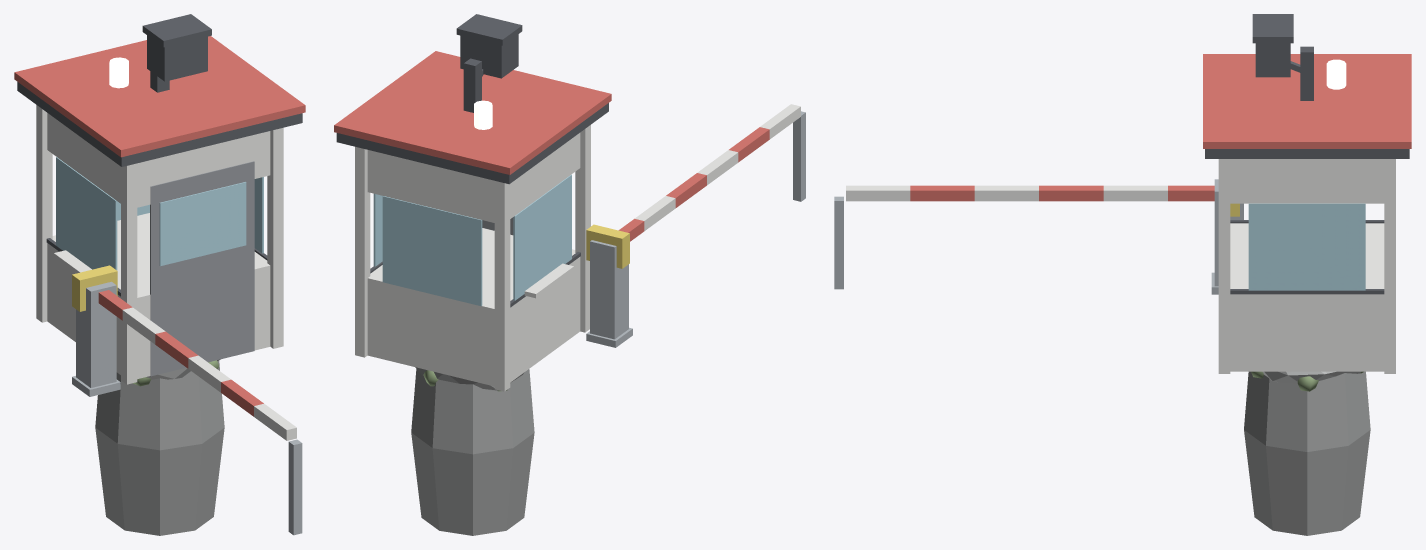
Rendered from bridge_bits.glb.
3 renders of one model, left to right at view 1: azimuth 30°, elevation 25°; view 2: azimuth 150°, elevation 25°; view 3: azimuth 270°, elevation 25°, orthographic. The views are drawn at different scales.
Parts seen in each view (by area): view 1: cb_booth_mesh, fd_stone_mesh, cb_lamp_mesh; view 2: cb_booth_mesh, fd_stone_mesh, cb_lamp_mesh; view 3: cb_booth_mesh, fd_stone_mesh, cb_lamp_mesh.
Part boxes in pixels (bbox=[...]): cb_booth_mesh: bbox=[14, 36, 305, 535]; fd_stone_mesh: bbox=[95, 359, 224, 535]; cb_lamp_mesh: bbox=[142, 14, 211, 92]; cb_booth_mesh: bbox=[334, 51, 805, 391]; fd_stone_mesh: bbox=[411, 367, 534, 535]; cb_lamp_mesh: bbox=[456, 14, 522, 112]; cb_booth_mesh: bbox=[834, 54, 1411, 373]; fd_stone_mesh: bbox=[1244, 371, 1370, 535]; cb_lamp_mesh: bbox=[1252, 14, 1313, 100].
Size of the model in its own units: 2.49 by 5.52 by 5.92.
